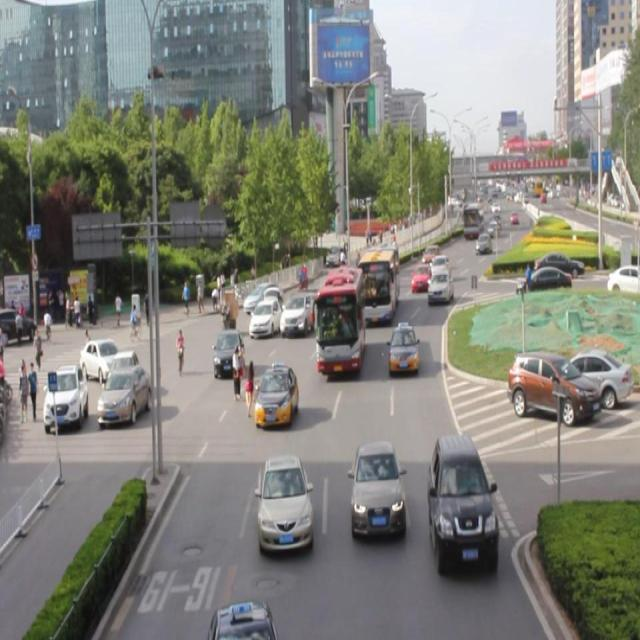car: (428, 434, 495, 564), (257, 454, 310, 550), (351, 440, 402, 534), (253, 362, 297, 426), (210, 599, 274, 640), (280, 286, 315, 336), (213, 325, 247, 373), (388, 323, 418, 374), (249, 293, 282, 334), (427, 267, 451, 302), (428, 254, 448, 282), (411, 262, 430, 290)
van: (316, 265, 362, 369), (357, 246, 397, 318)
